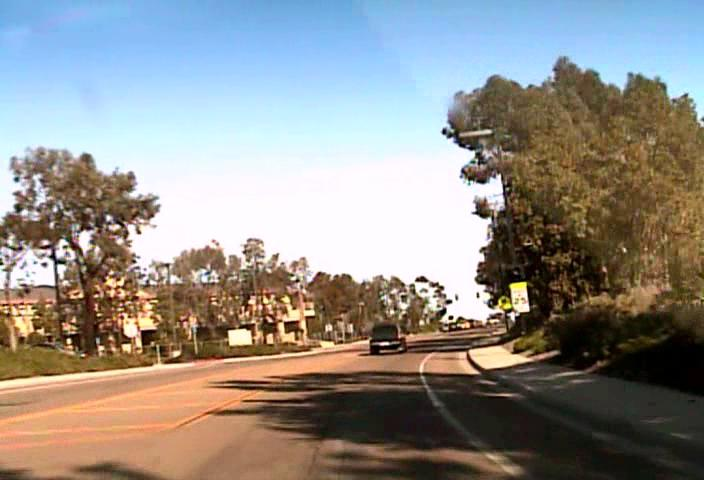schoolSpeedLimit25: (509, 281, 530, 313)
